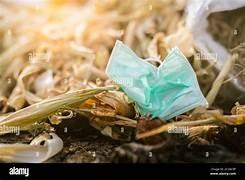Mask: (106, 41, 207, 119)
